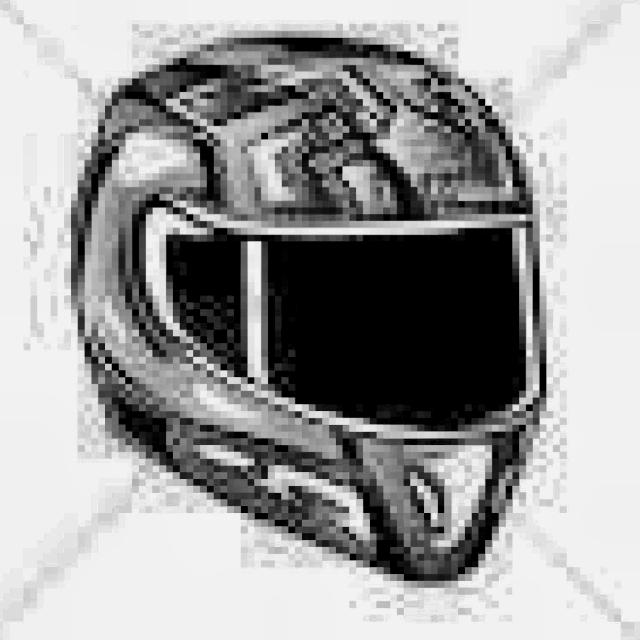Helmet: (68, 24, 590, 598)
